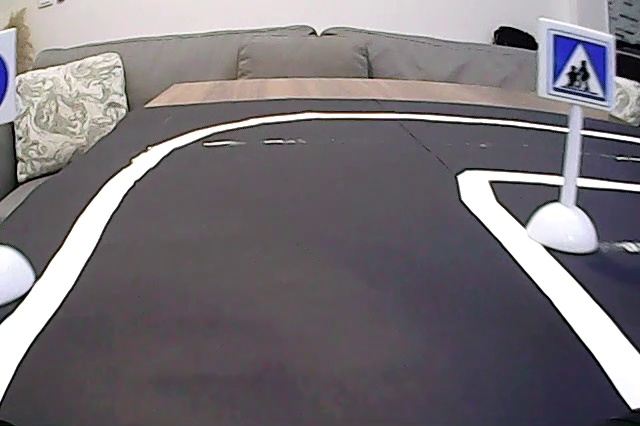school crossing: (540, 19, 616, 111)
